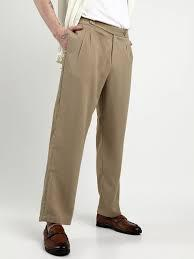trouser: (36, 18, 135, 224)
